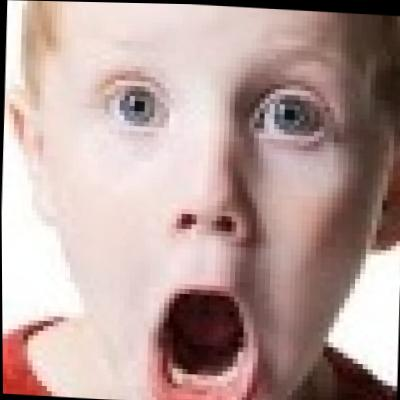surprise: (43, 1, 379, 400)
